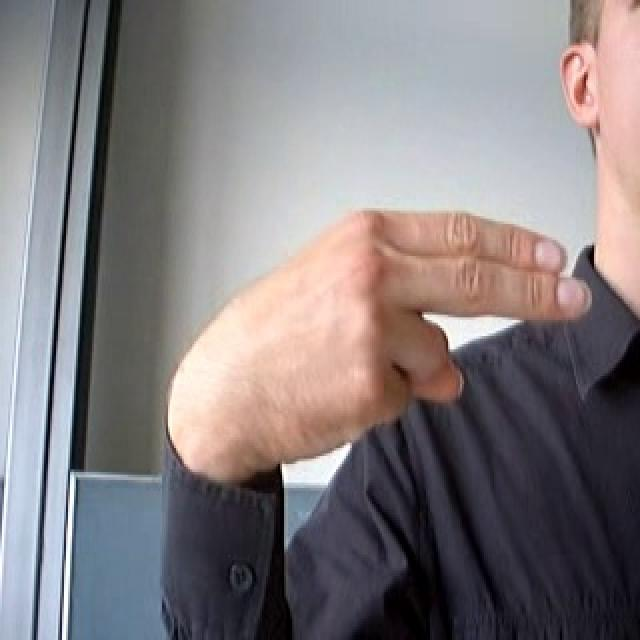H: (191, 186, 600, 474)
